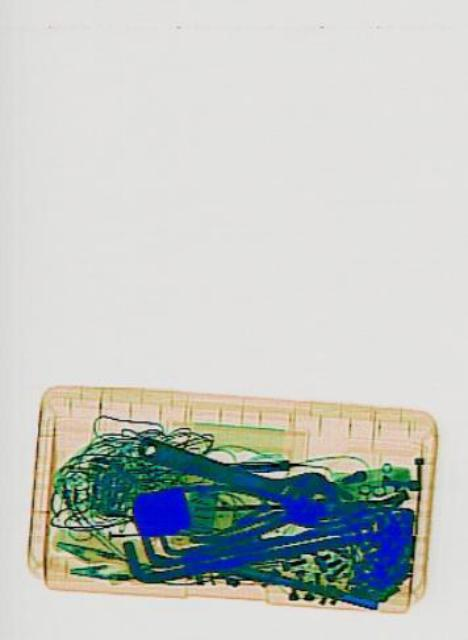Wrench: (131, 418, 337, 528)
